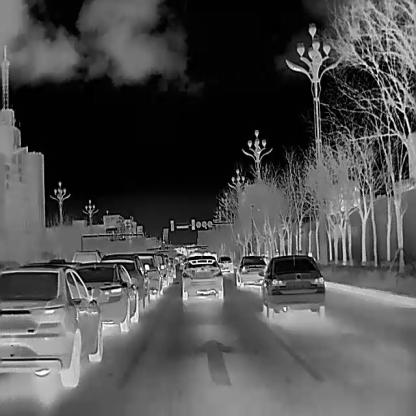car: (0, 261, 102, 388), (258, 252, 328, 322), (74, 260, 139, 332), (101, 251, 151, 310), (181, 254, 224, 302), (135, 251, 163, 300), (235, 252, 266, 288), (216, 255, 233, 275)
